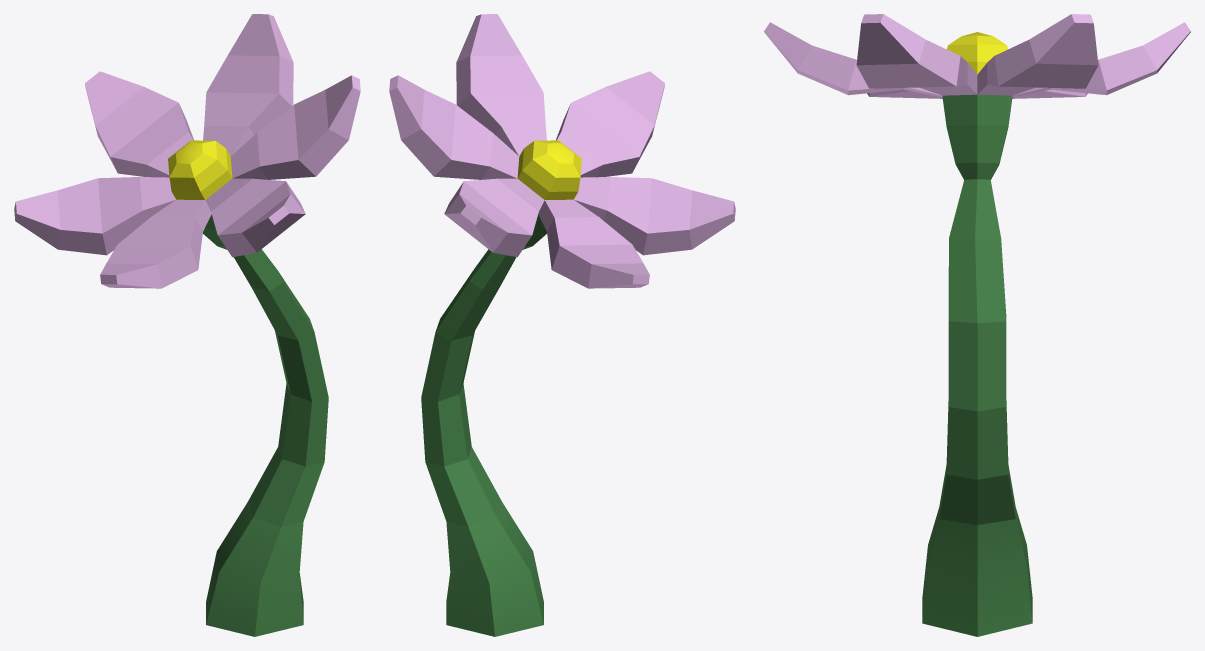
Rendered from TTU_First_Plant.obj.
3 renders of one model, left to right at view 1: azimuth 30°, elevation 25°; view 2: azimuth 150°, elevation 25°; view 3: azimuth 270°, elevation 25°, orthographic. The views are drawn at different scales.
Visible parts, largest first — view 1: pCylinder9; view 2: pCylinder9; view 3: pCylinder9.
Boxes of the visible parts, bbox=[...] form: pCylinder9: bbox=[14, 14, 360, 636]; pCylinder9: bbox=[389, 14, 735, 636]; pCylinder9: bbox=[764, 14, 1190, 636].
Bounding box in the file's own units: 2.39 × 4.76 × 2.94.
Materials: 1 (1 with a texture image).
